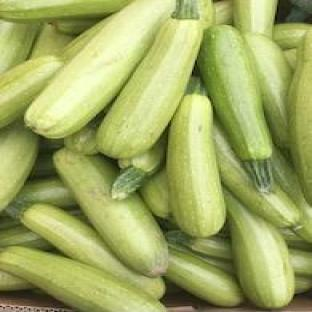Zucchini: (55, 149, 167, 277), (20, 204, 164, 298), (199, 26, 271, 191), (0, 248, 166, 311), (167, 78, 225, 237), (215, 124, 300, 227), (224, 190, 294, 308), (244, 34, 292, 147), (165, 248, 243, 307), (0, 57, 62, 127), (288, 29, 311, 203), (272, 149, 311, 242), (112, 135, 167, 200), (0, 122, 38, 209), (167, 231, 236, 273), (61, 16, 113, 61), (8, 178, 75, 211), (172, 244, 236, 275), (0, 21, 38, 73), (167, 231, 231, 260), (140, 167, 171, 218), (29, 23, 73, 58), (64, 118, 99, 154), (0, 226, 51, 249), (274, 23, 311, 49), (194, 254, 235, 274), (0, 270, 35, 291), (55, 20, 100, 34), (280, 230, 311, 250), (31, 154, 55, 177), (290, 249, 311, 275), (40, 138, 63, 152), (0, 216, 20, 230), (295, 276, 311, 293), (284, 50, 297, 69)
